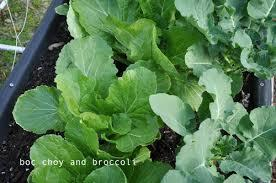Healthy-Pechay: (62, 3, 265, 181)
